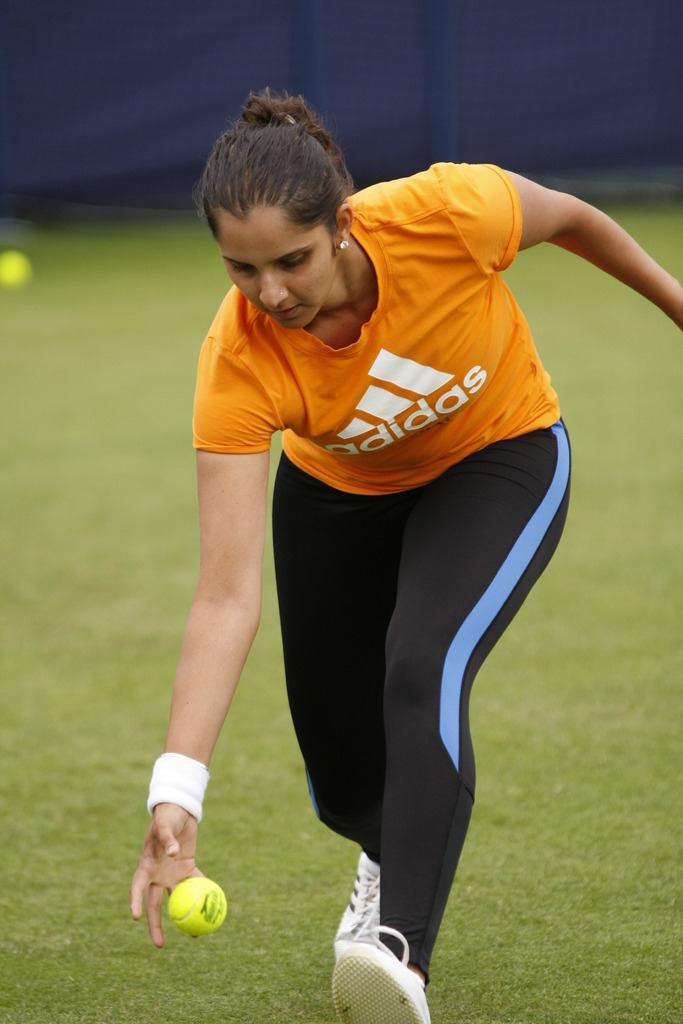Ball: (165, 872, 231, 934), (0, 252, 31, 295)
